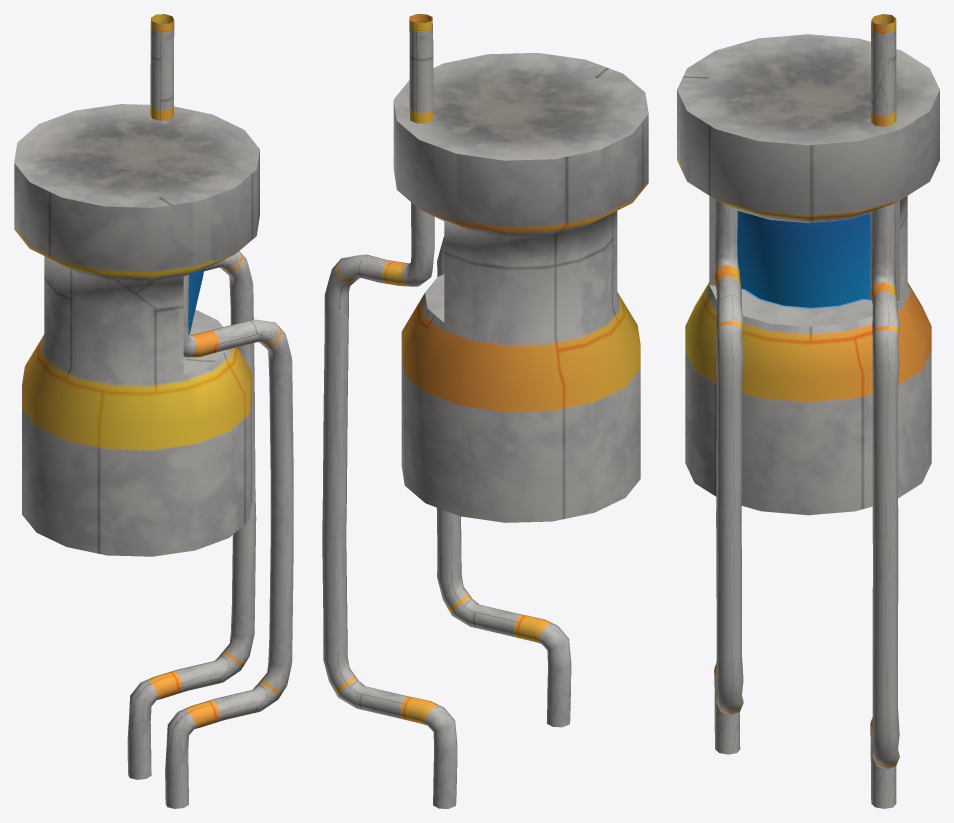
Rendered from Crev_02.fbx.
3 views of the same model, side by side, from view 1: azimuth 30°, elevation 25°; view 2: azimuth 150°, elevation 25°; view 3: azimuth 270°, elevation 25° (orthographic). The views are drawn at different scales.
Parts seen in each view (by area): view 1: Crev_02; view 2: Crev_02; view 3: Crev_02.
Boxes of the visible parts, x1,y1,x2,y2 form: Crev_02: [14, 14, 293, 808]; Crev_02: [322, 14, 648, 808]; Crev_02: [677, 14, 939, 808].
Bounding box in the file's own units: 39.37 × 108 × 32.32.
